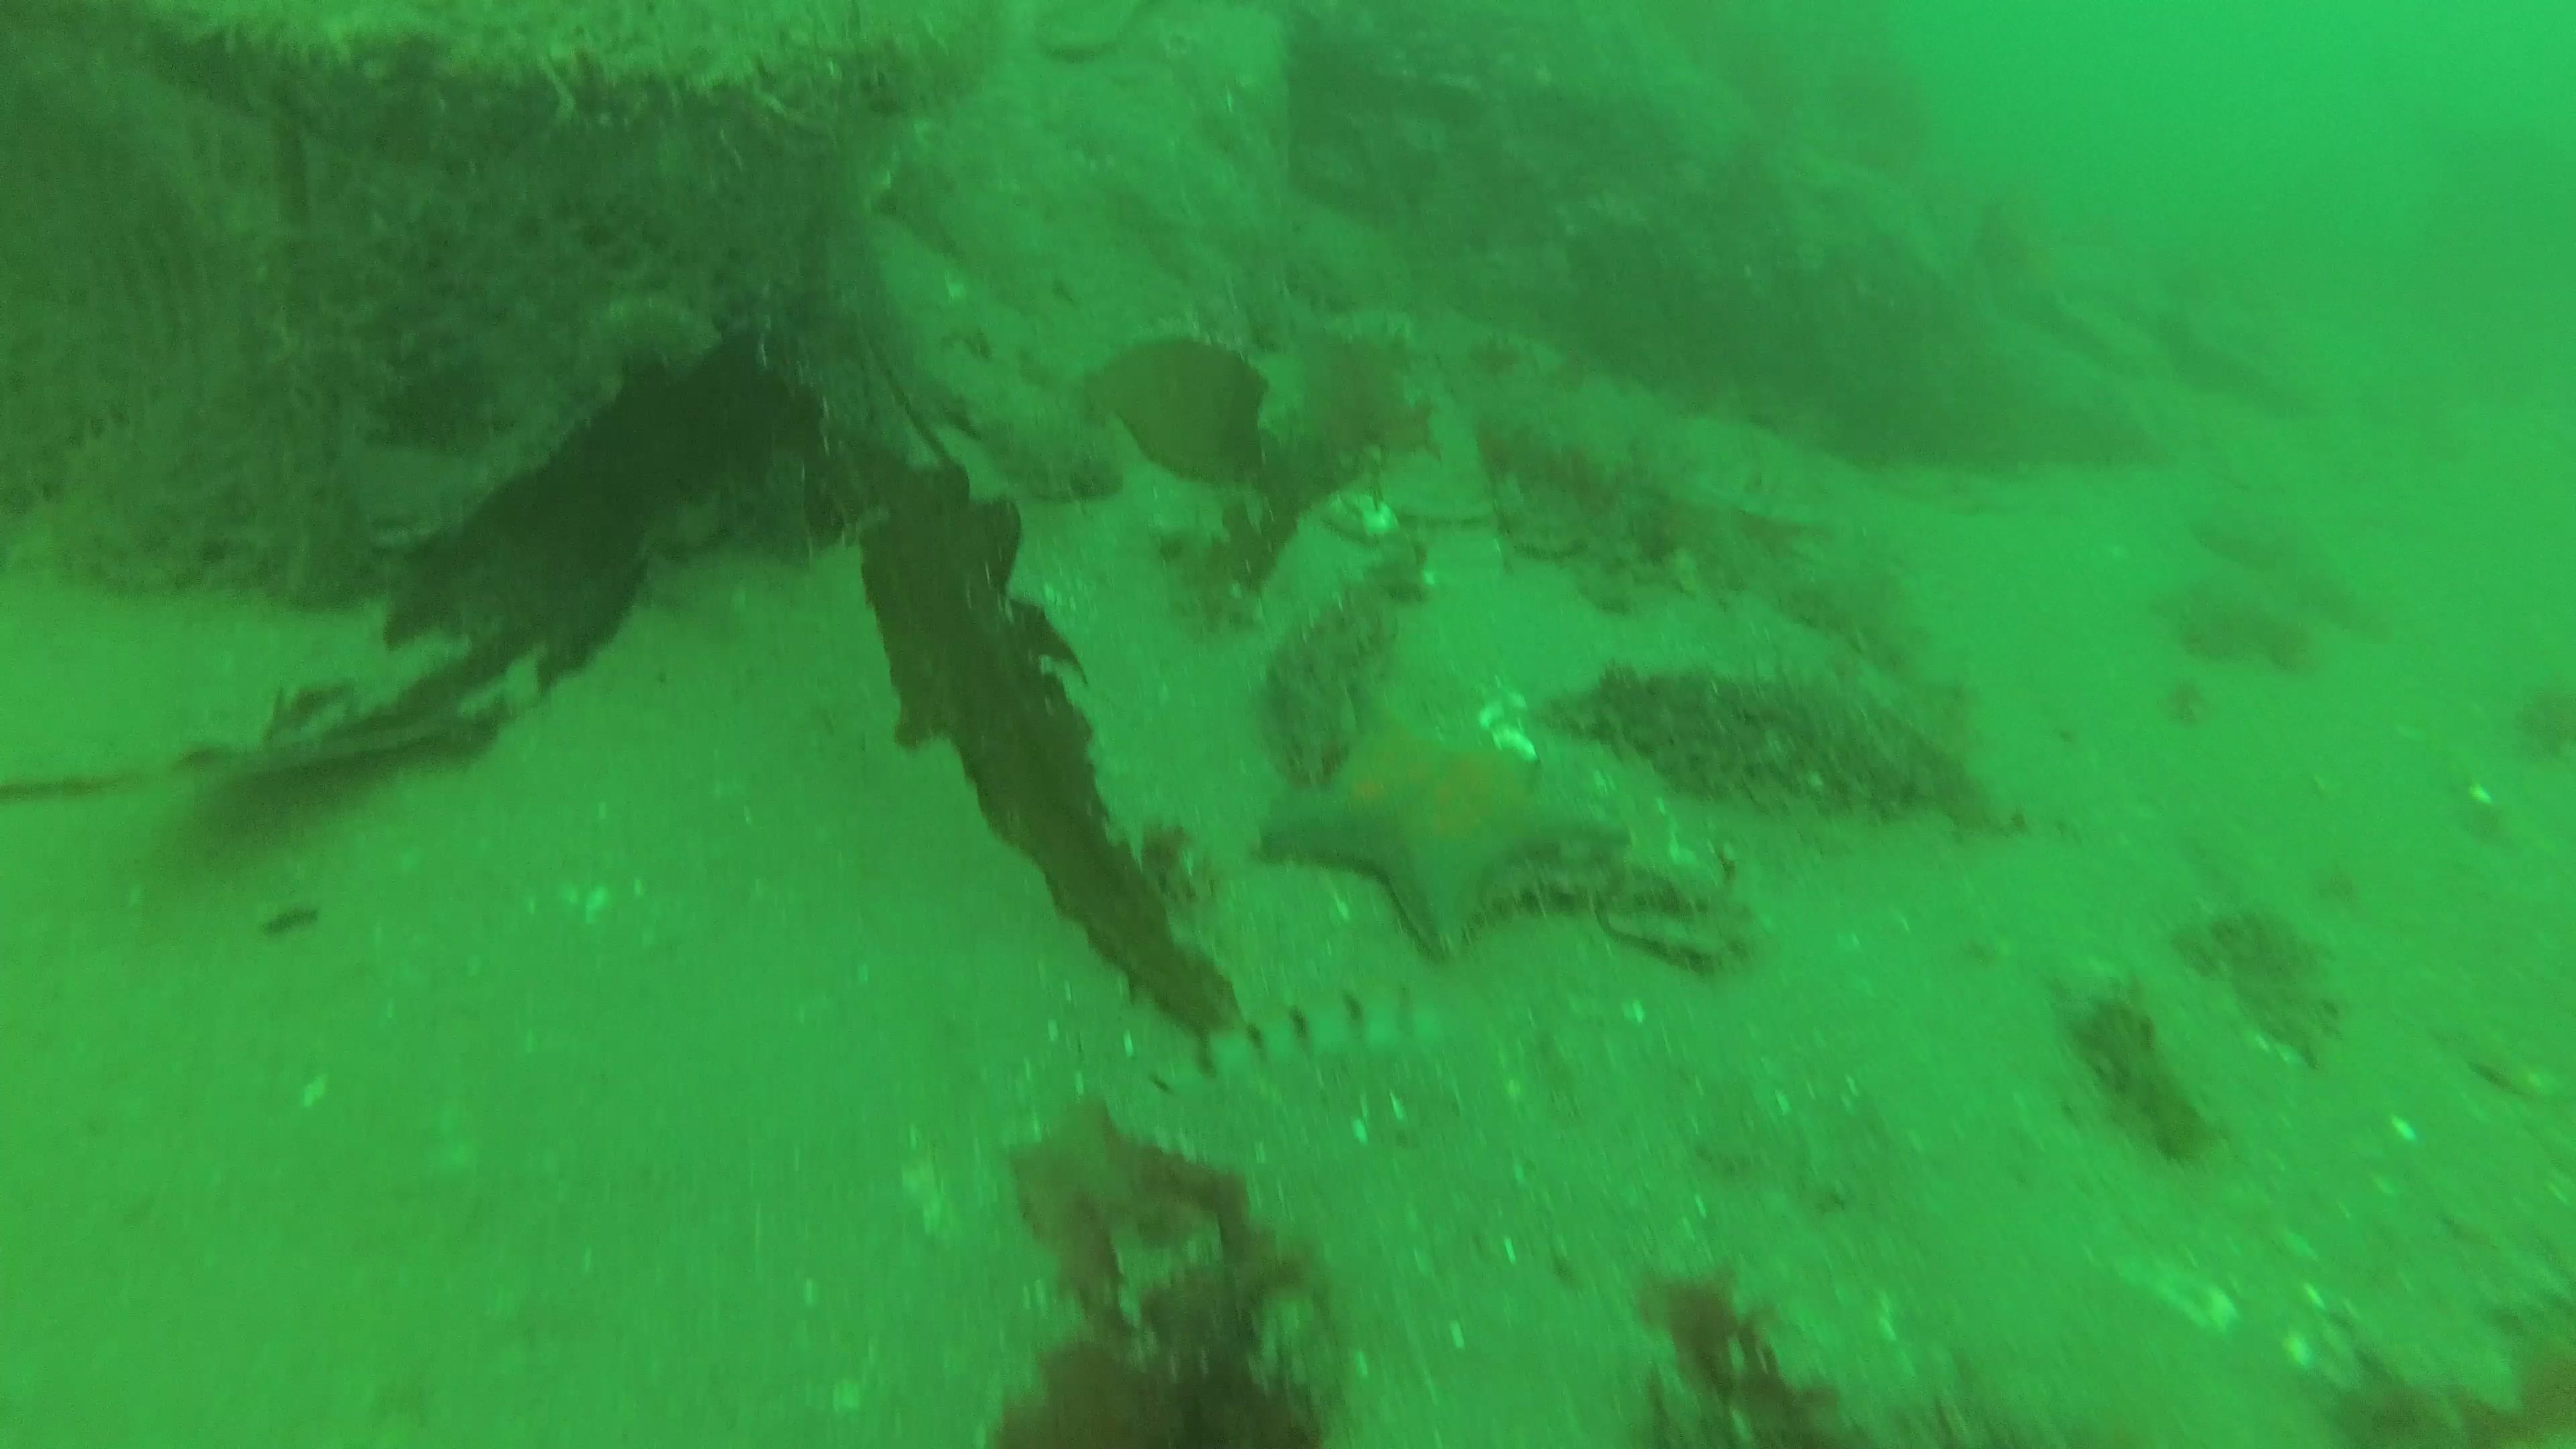starfish: (1258, 702, 1631, 970)
